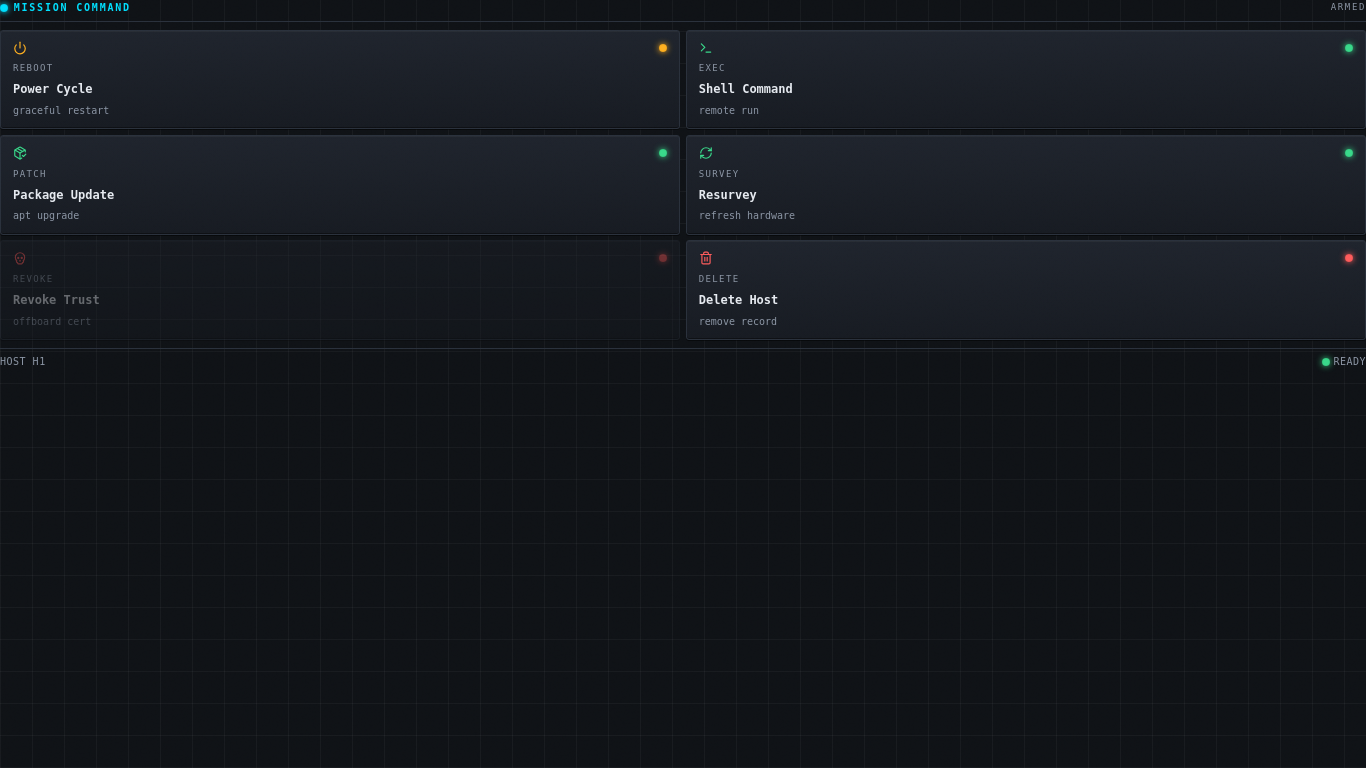
QuickActions › Resurvey button is enabled and clickable
What coordinates should you click on to do the following:
click the button "SURVEY Resurvey refresh hardware"
I would click on:
 (719, 174)
Its box is [686,135,1365,235].
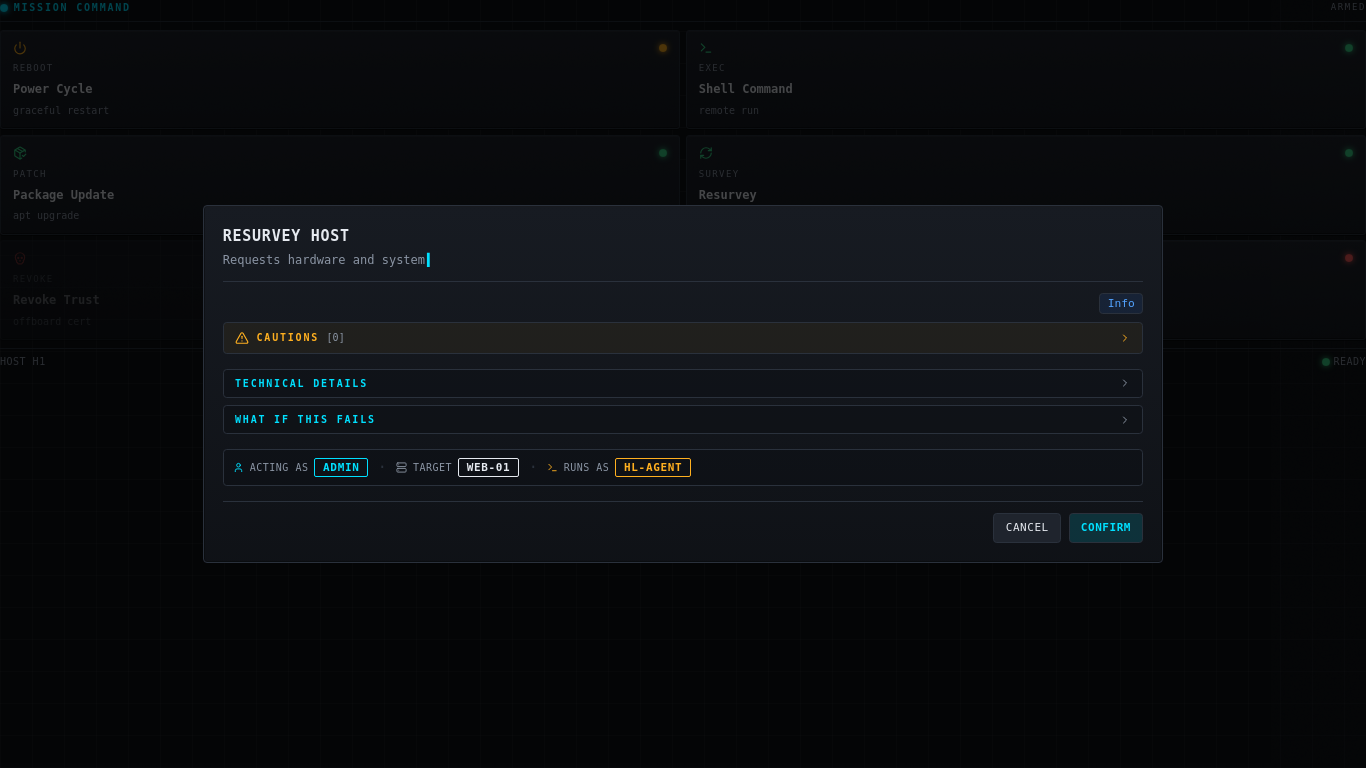
Expected: the dialog is shown
